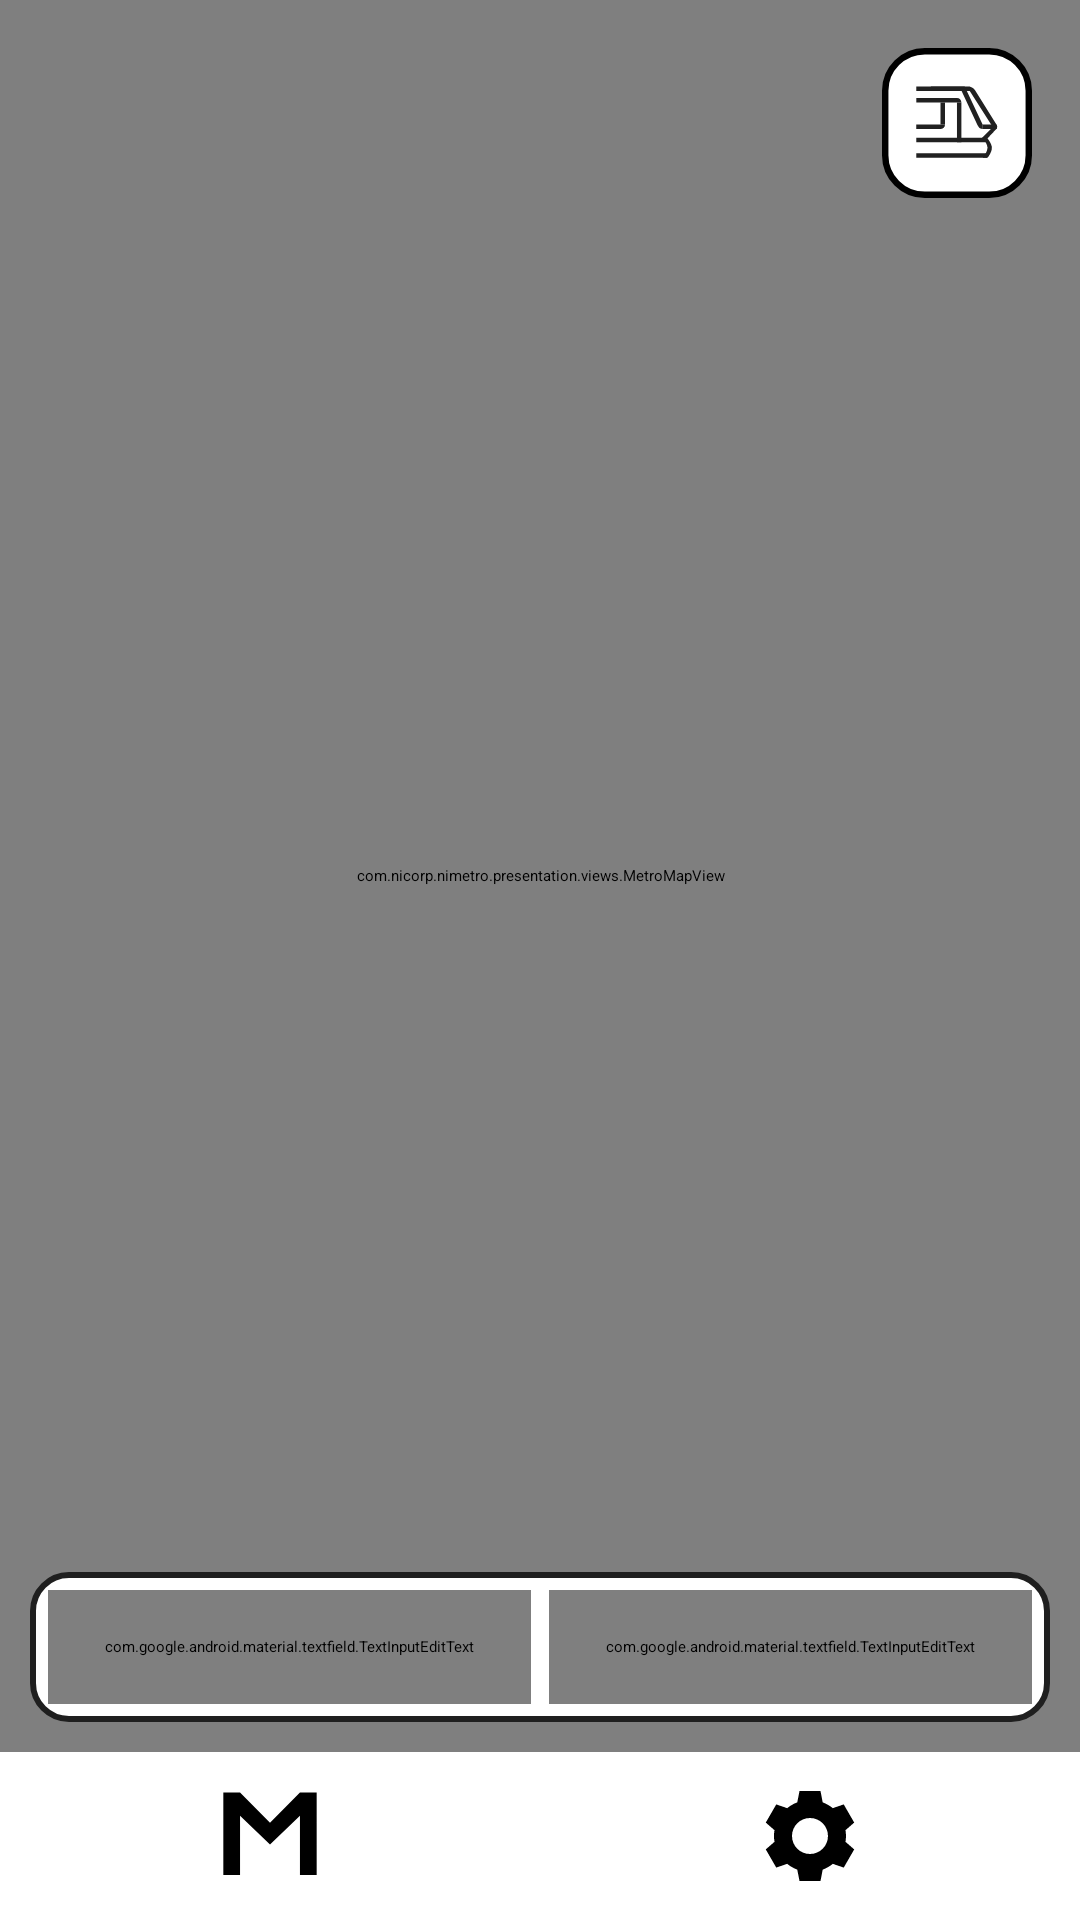

Icon click points for this 1080×1920 phone screenshot, format (x=x, y=y):
M Icon: (x=270, y=1833)
Settings Icon: (x=810, y=1836)
